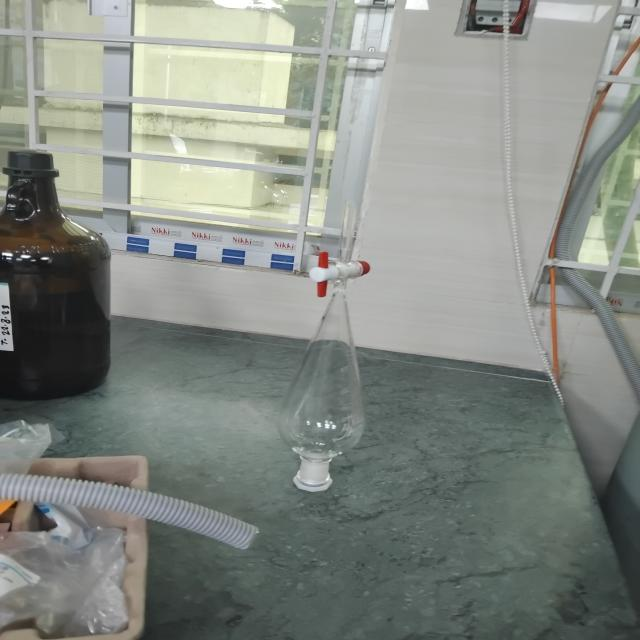Separating_Funnel: (276, 188, 400, 515)
